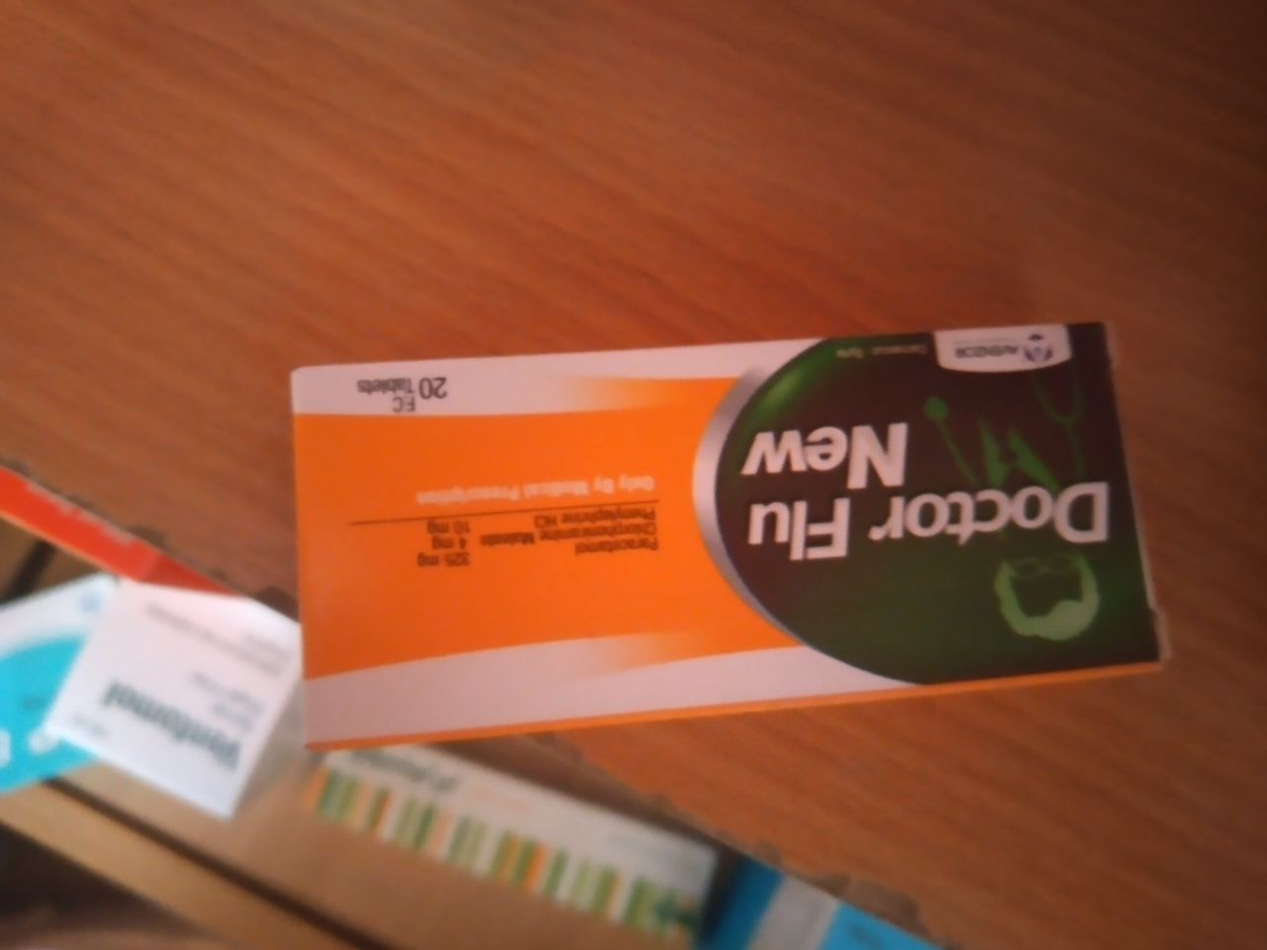Medicine: (255, 299, 1195, 757)
